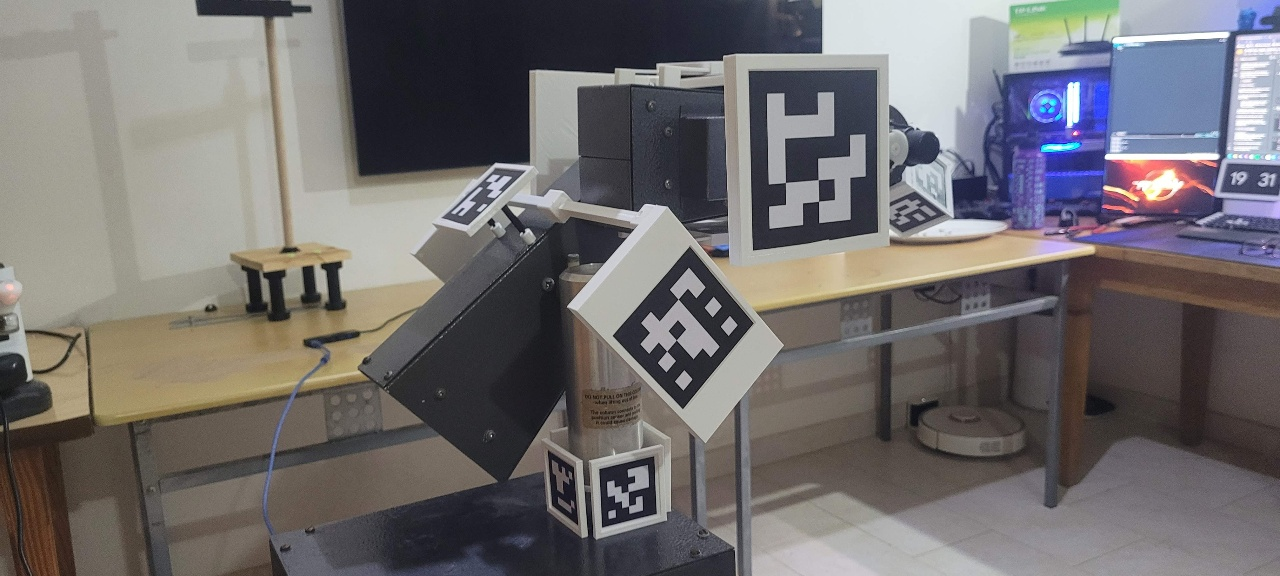Robot: (358, 52, 955, 541)
